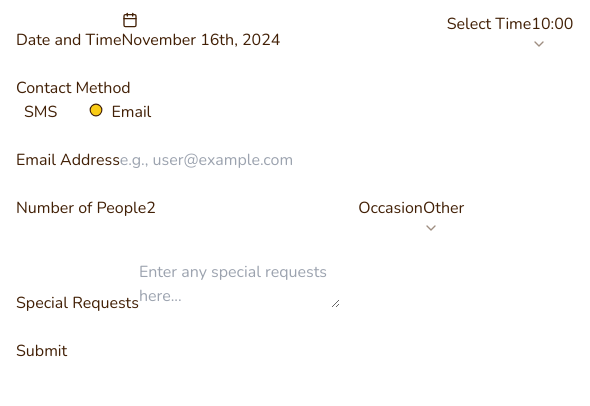
BookingForm › shows number of people error when number is invalid
The image size is (590, 406).
Replace the text in the number field labelled "Number of People" with "0" at x=248, y=208, box [146, 196, 350, 220]
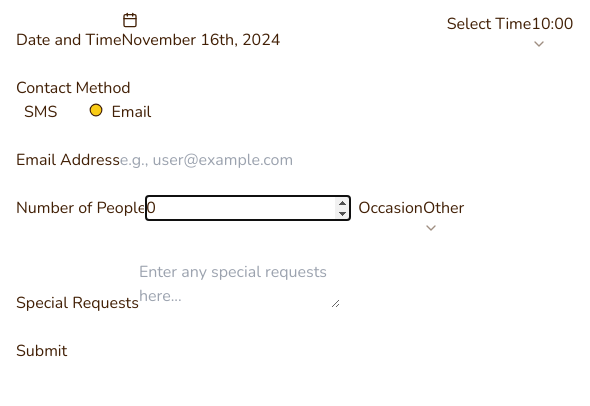
Click the button "Submit" at x=42, y=351, box [16, 339, 67, 363]
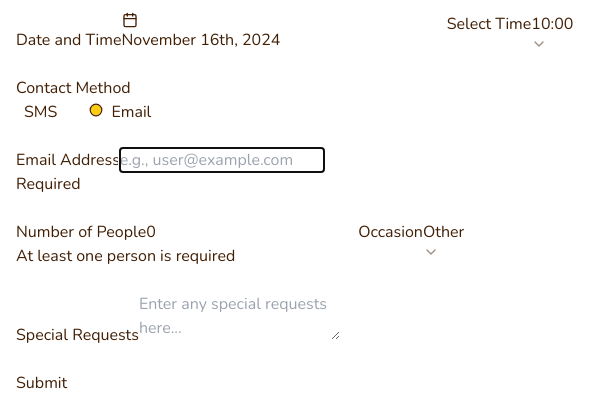
Expected: the text "At least one person is required" is shown, [16, 245, 235, 267]
